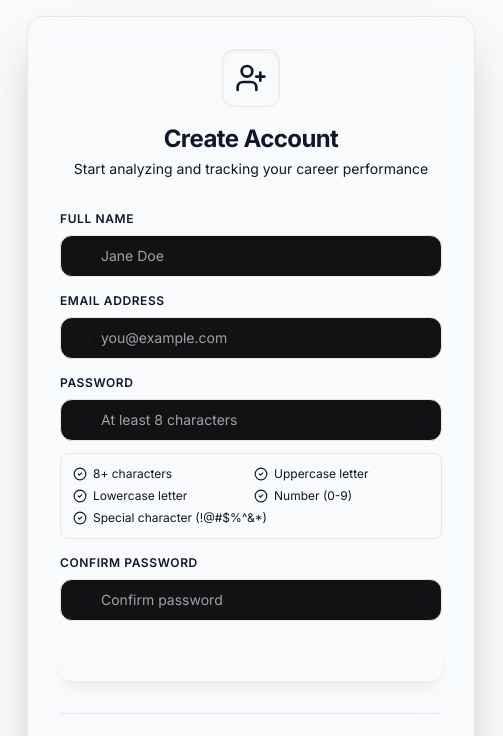
it: Authentication & Account Management › RegisterPage › displays field-adjacent error for malformed email address
The image size is (503, 736).
Type "not-an-email" into the field labelled "Email Address". click: {"x": 251, "y": 338}
box: x1=60 y1=317 x2=442 y2=359
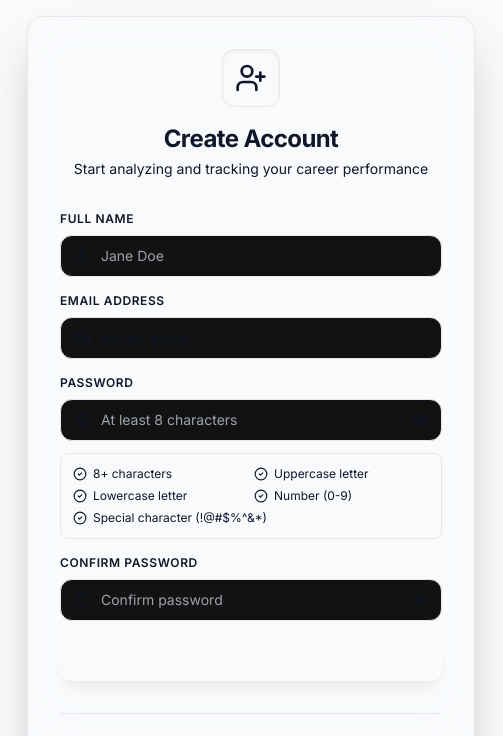
Leave the field labelled "Email Address", box x1=60 y1=317 x2=442 y2=359
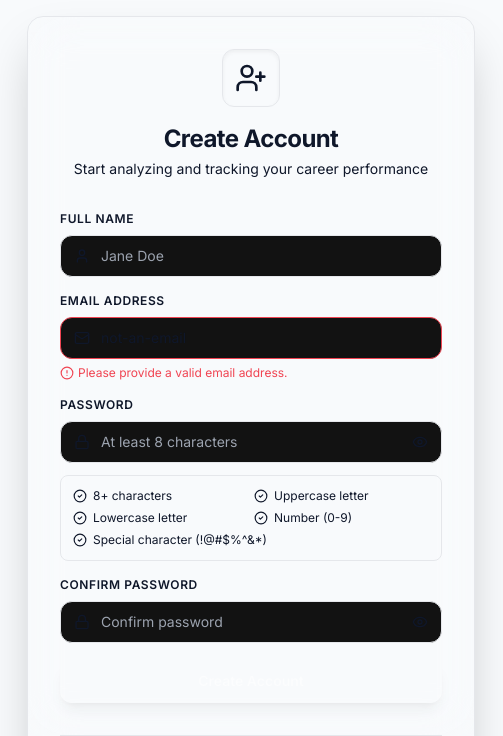
Check: the text "Please provide a valid email address." is shown, box x1=78 y1=365 x2=288 y2=381
